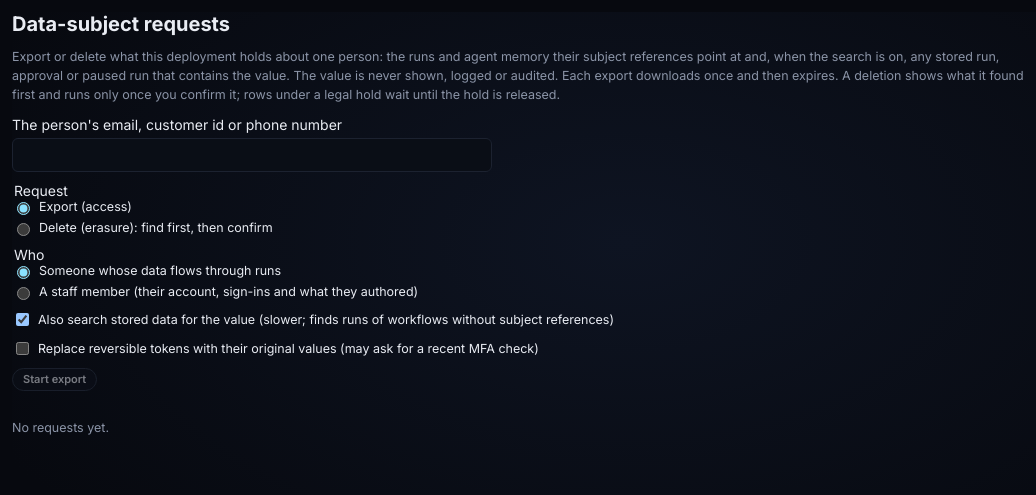
Test: data-subject deletion requests › sends a deletion without revealTokens, and confirms its preview
Expected: the text "No requests yet." is shown, [12,420,109,435]
Click the radio button labelled "Delete (erasure): find first, then confirm" at (24, 229), box [17,223,30,236]
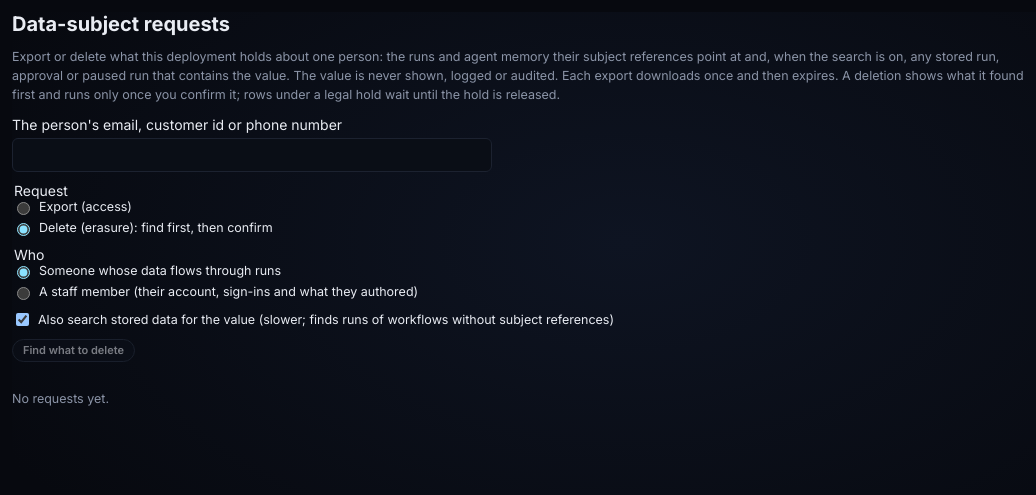
Now the text labelled "Replace reversible tokens" is gone
Type "ana@example.com" into the field labelled "The person's email, customer id or phone number" at (252, 155), box [12,138,492,172]
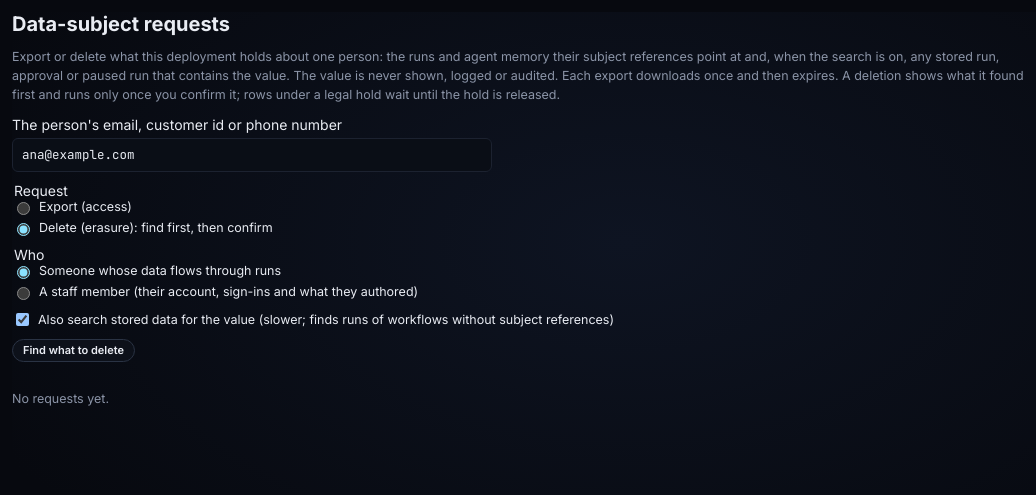
Click the button "Find what to delete" at (73, 350), box [12,339,135,362]
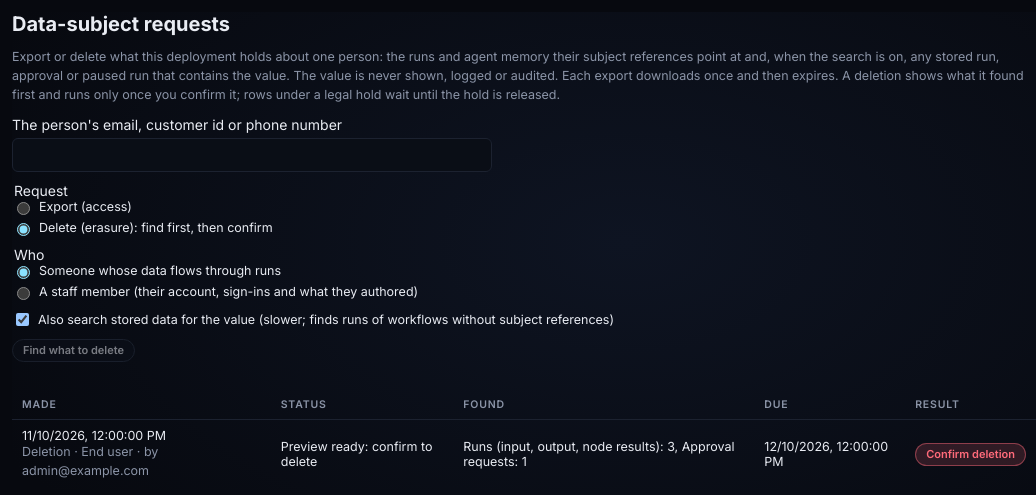
Now the row with test id "subject-request-dsr_del" shows "Preview ready: confirm to delete", box [281,439,432,469]
Click the button "Confirm deletion" at (970, 454), box [915,443,1026,466]
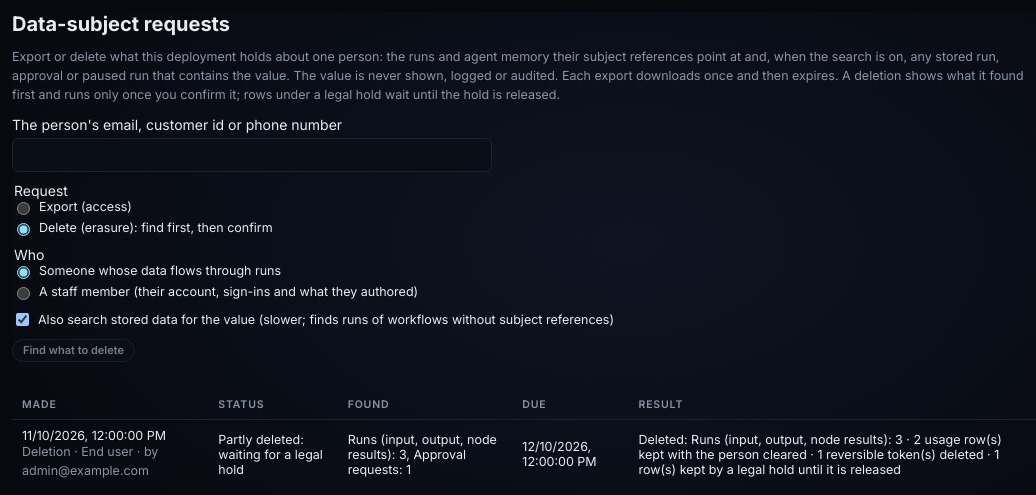
Now the row with test id "subject-request-dsr_del" shows "waiting for a legal hold", box [218,432,323,477]
Now the row with test id "subject-request-dsr_del" shows "2 usage row(s) kept with the person cleared", box [638,432,1002,477]
Now the row with test id "subject-request-dsr_del" shows "1 reversible token(s) deleted", box [638,432,1002,477]
